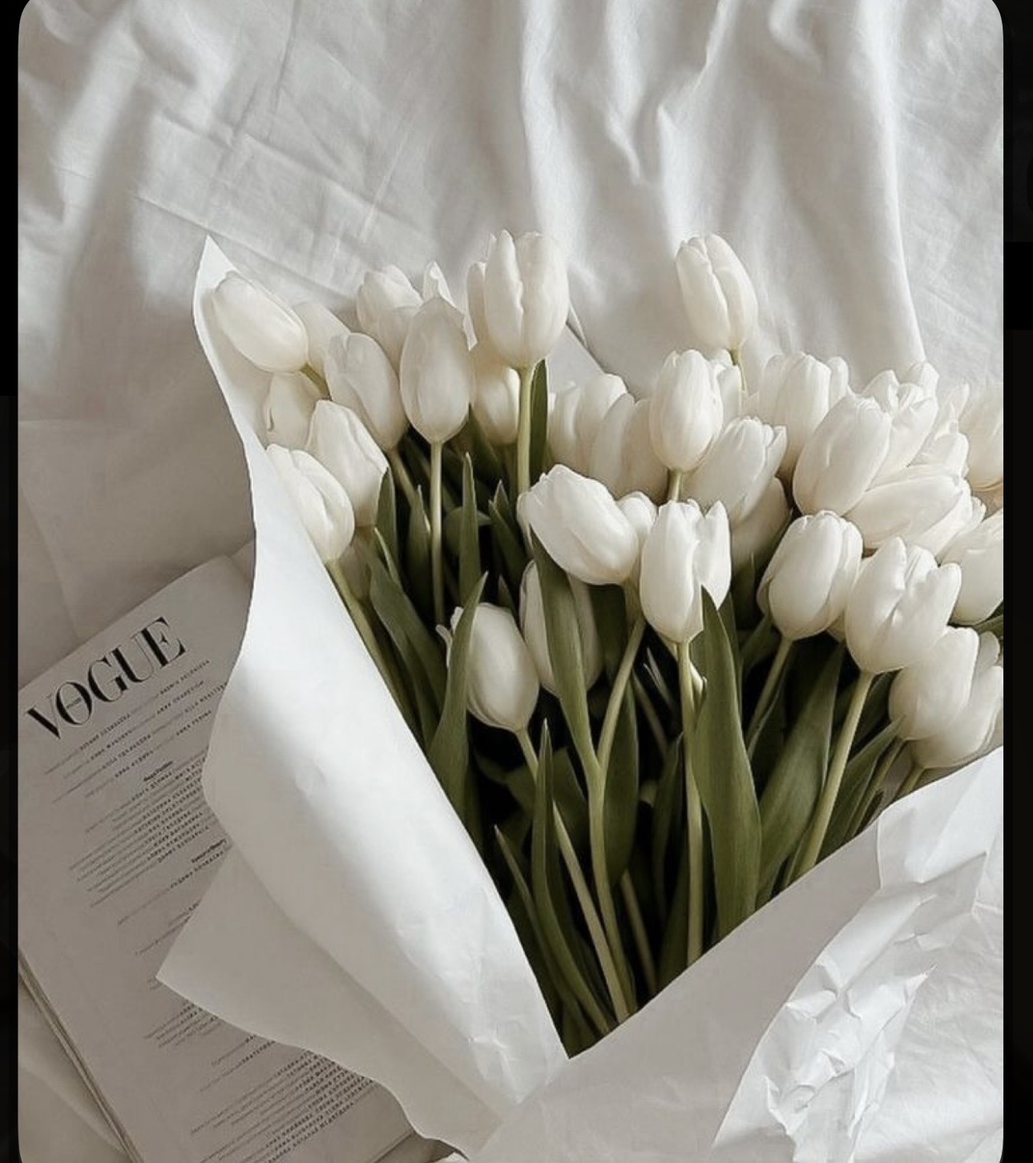tulip: (512, 456, 646, 598), (843, 533, 968, 680), (472, 225, 577, 387), (779, 388, 896, 525), (756, 507, 869, 646), (429, 597, 542, 734), (634, 490, 734, 644), (252, 437, 359, 566), (206, 266, 320, 386), (676, 412, 789, 527), (514, 552, 602, 697), (884, 622, 981, 749), (672, 230, 763, 364), (843, 461, 976, 551), (319, 326, 407, 457), (907, 663, 1003, 782), (585, 384, 675, 510), (842, 366, 942, 478), (396, 305, 473, 450), (308, 408, 396, 534), (648, 345, 726, 486), (351, 260, 469, 352), (457, 336, 532, 457), (933, 495, 1002, 625), (779, 350, 851, 456), (876, 424, 970, 494)
